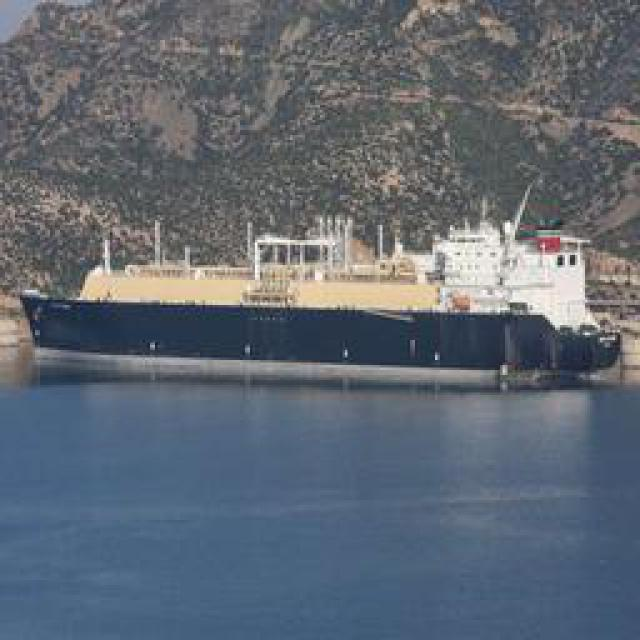Ship: (18, 243, 626, 388)
